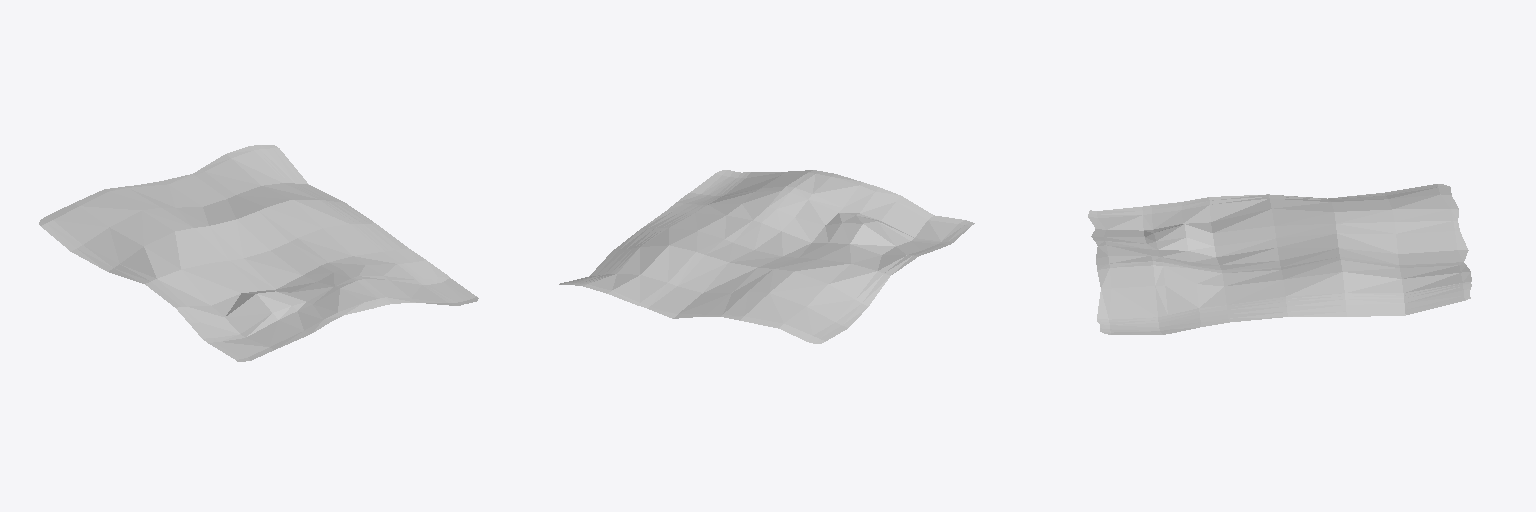
Rendered from paper1.obj.
3 renders of one model, left to right at view 1: azimuth 30°, elevation 25°; view 2: azimuth 150°, elevation 25°; view 3: azimuth 270°, elevation 25°, orthographic.
Parts seen in each view (by area): view 1: paper; view 2: paper; view 3: paper.
Part boxes in pixels (bbox=[...]): paper: bbox=[39, 145, 478, 361]; paper: bbox=[559, 170, 974, 343]; paper: bbox=[1088, 184, 1471, 334].
Size of the model in its own units: 50.82 by 6.53 by 61.93.